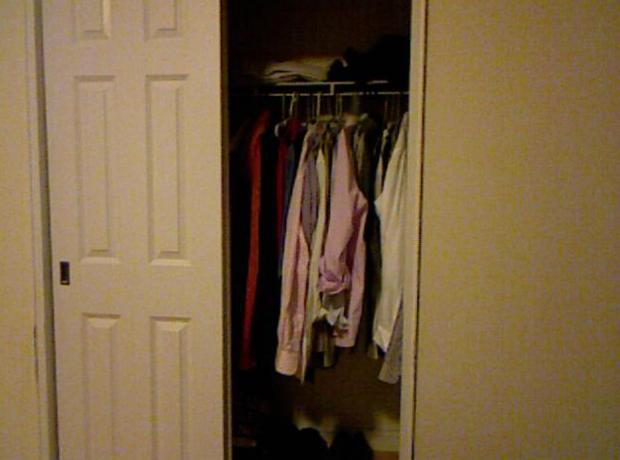Armario: (47, 7, 423, 452)
